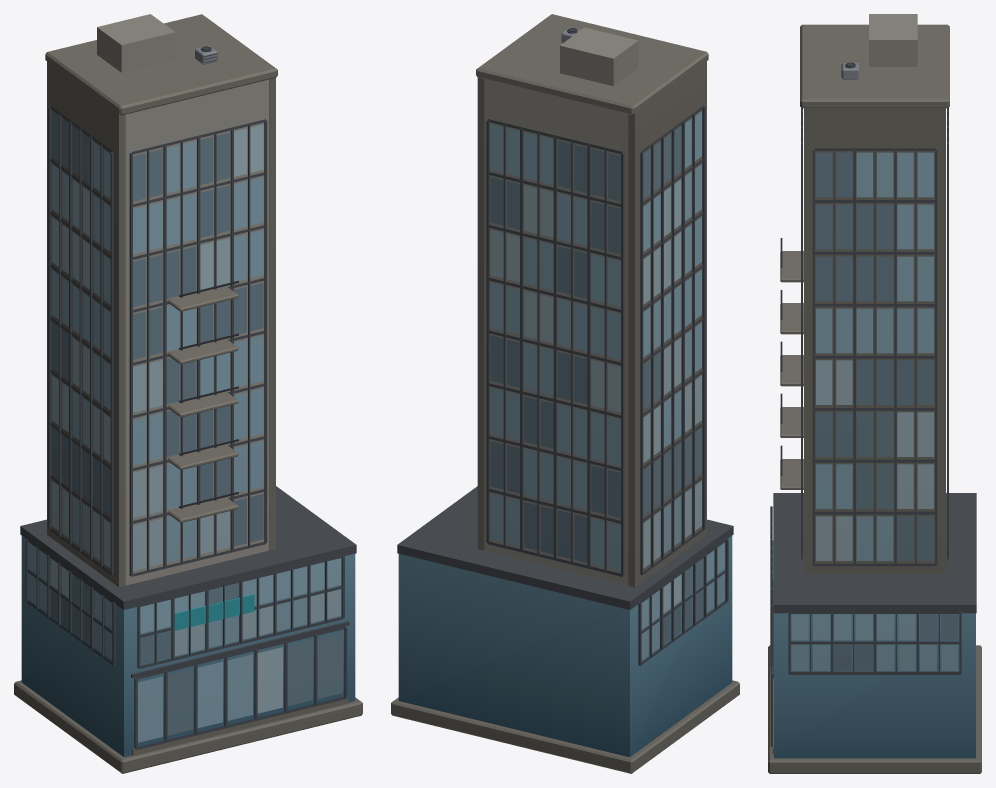
File: mixeduse_tower_01.glb
3 views of the same model, side by side, from view 1: azimuth 30°, elevation 25°; view 2: azimuth 150°, elevation 25°; view 3: azimuth 270°, elevation 25° (orthographic).
Parts seen in each view (by area): view 1: mixeduse_tower_01; view 2: mixeduse_tower_01; view 3: mixeduse_tower_01.
Boxes of the visible parts, x1,y1,x2,y2 form: mixeduse_tower_01: (14,14,362,773); mixeduse_tower_01: (391,14,739,773); mixeduse_tower_01: (768,14,981,773).
Bounding box in the file's own units: 9 × 24.15 × 7.
